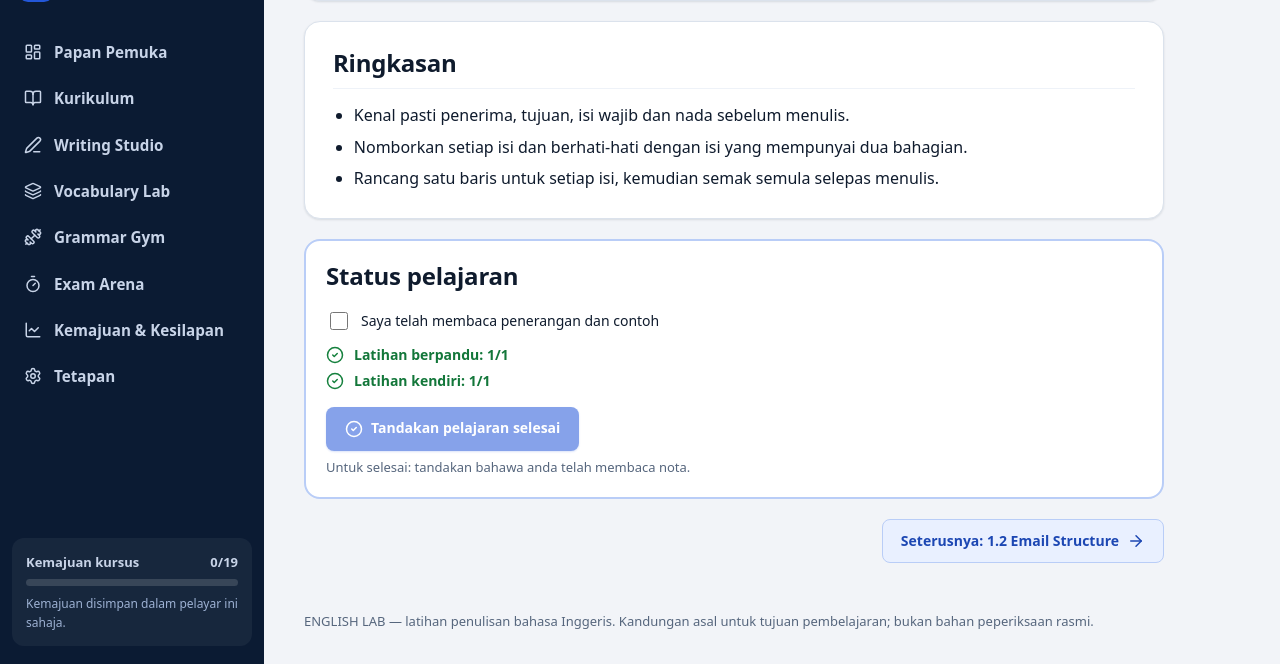
Test case: lesson quizzes › only allows marking a lesson complete after its requirements are met
(page scrolled)
Expected: the button "Tandakan pelajaran selesai" is disabled, x1=326 y1=406 x2=579 y2=450
Click the checkbox labelled "Saya telah membaca penerangan dan contoh". click: [339, 321]
box: x1=330 y1=312 x2=348 y2=330
(page scrolled)
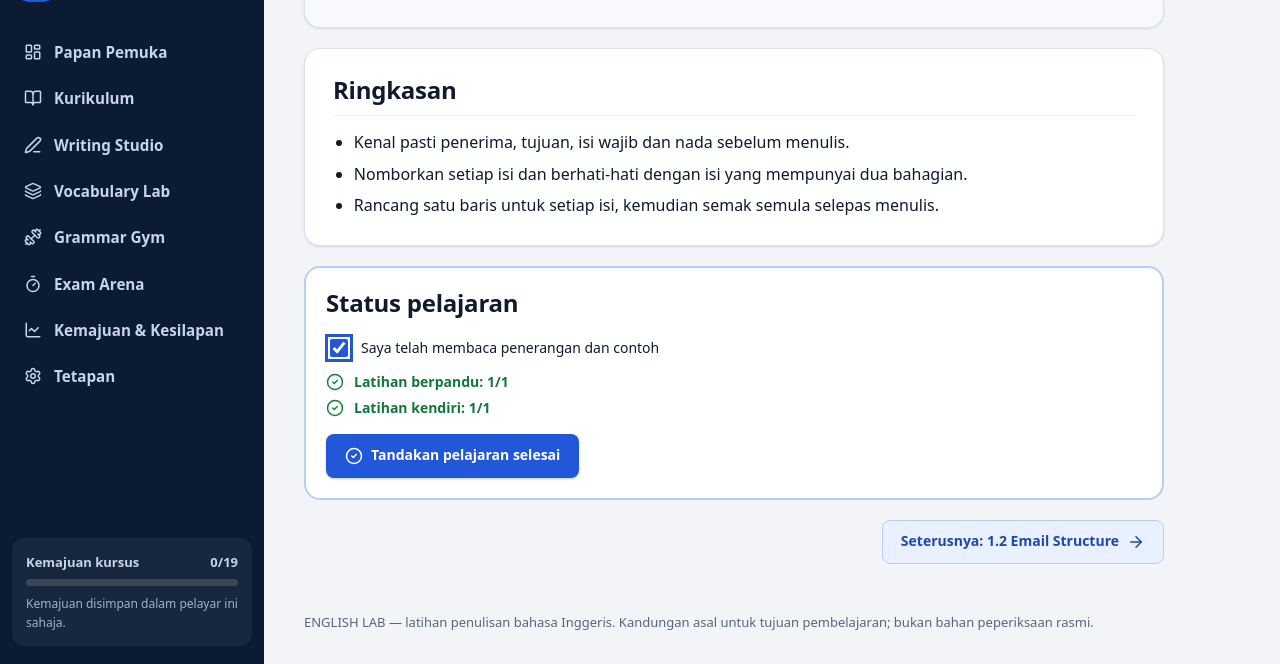
Now the button "Tandakan pelajaran selesai" is enabled
Click the button "Tandakan pelajaran selesai". click: [453, 456]
box: x1=326 y1=434 x2=579 y2=478
(page scrolled)
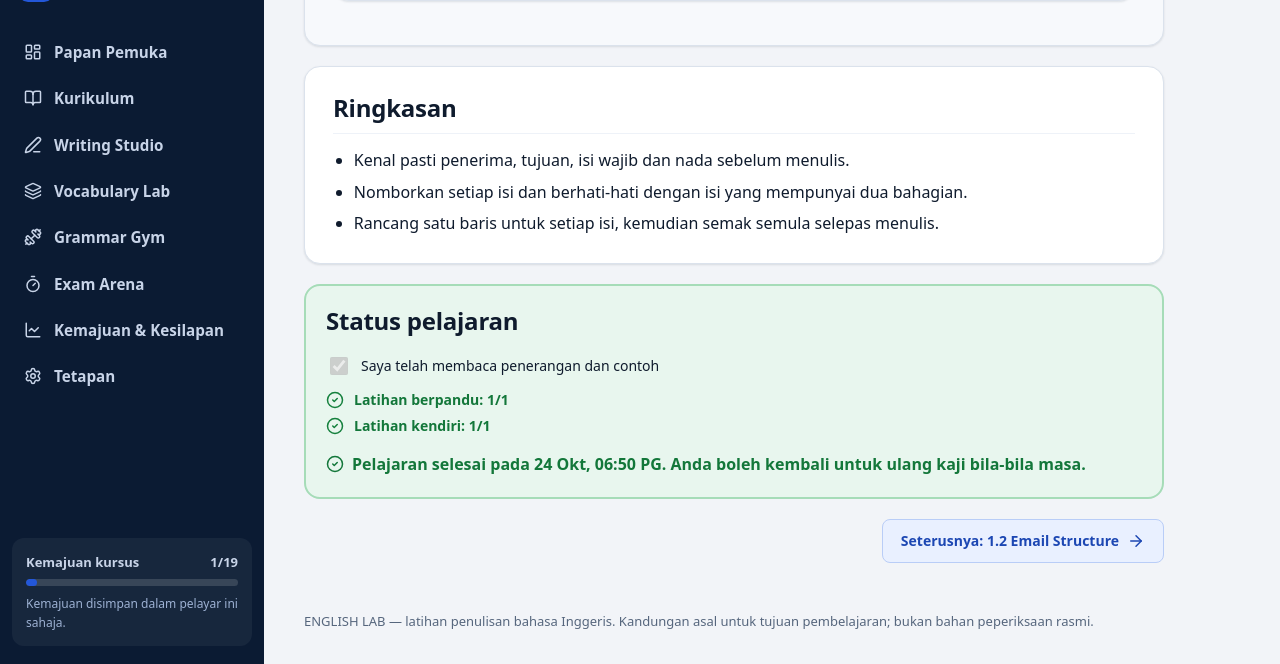
Now the text "Pelajaran selesai pada" is shown, box x1=352 y1=452 x2=534 y2=474
